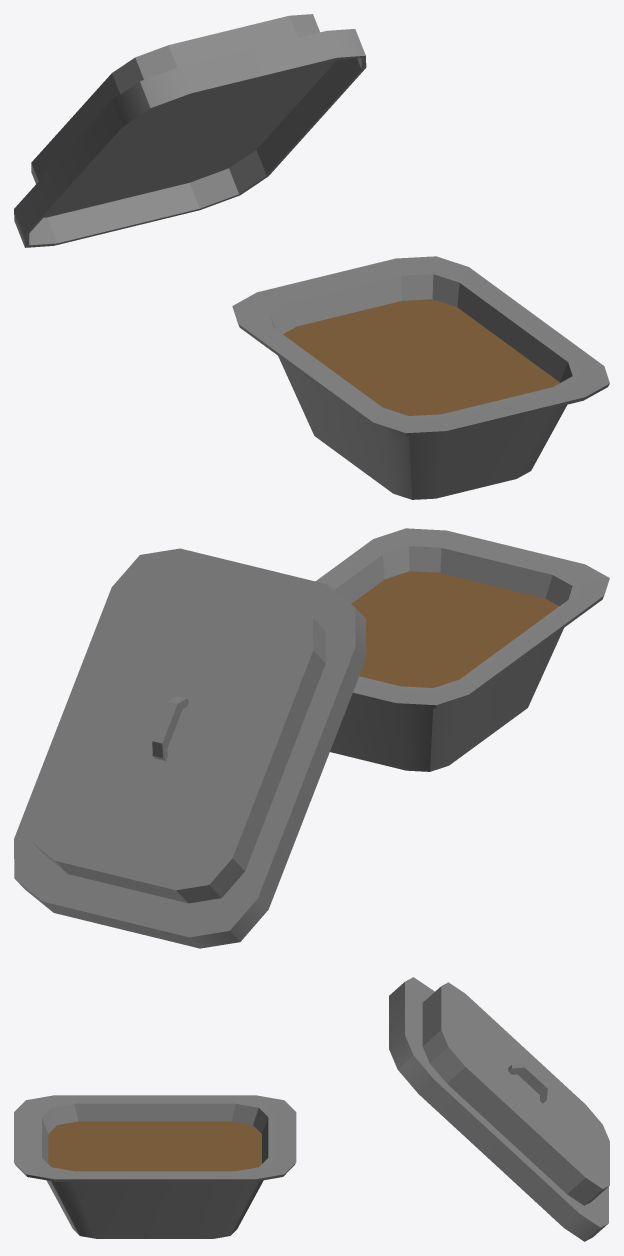
The model's file is container_withfood.fbx.
3 renders of one model, top to bottom at view 1: azimuth 30°, elevation 25°; view 2: azimuth 150°, elevation 25°; view 3: azimuth 270°, elevation 25°, orthographic. The views are drawn at different scales.
Parts seen in each view (by area): view 1: pCube6, pCube4; view 2: pCube4, pCube6; view 3: pCube6, pCube4.
Boxes of the visible parts, box(x1,y1,x2,y2) form: pCube6: box(232, 256, 609, 499); pCube4: box(14, 14, 366, 247); pCube4: box(14, 548, 366, 948); pCube6: box(315, 528, 609, 771); pCube6: box(14, 1095, 296, 1238); pCube4: box(389, 977, 609, 1241).
Bounding box in the file's own units: 3.84 × 4.17 × 10.92.
